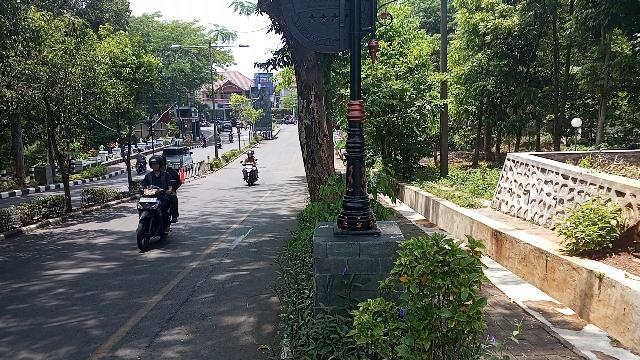helm: (151, 157, 164, 172), (248, 152, 254, 158)
motor: (132, 186, 173, 253), (243, 164, 257, 187)
